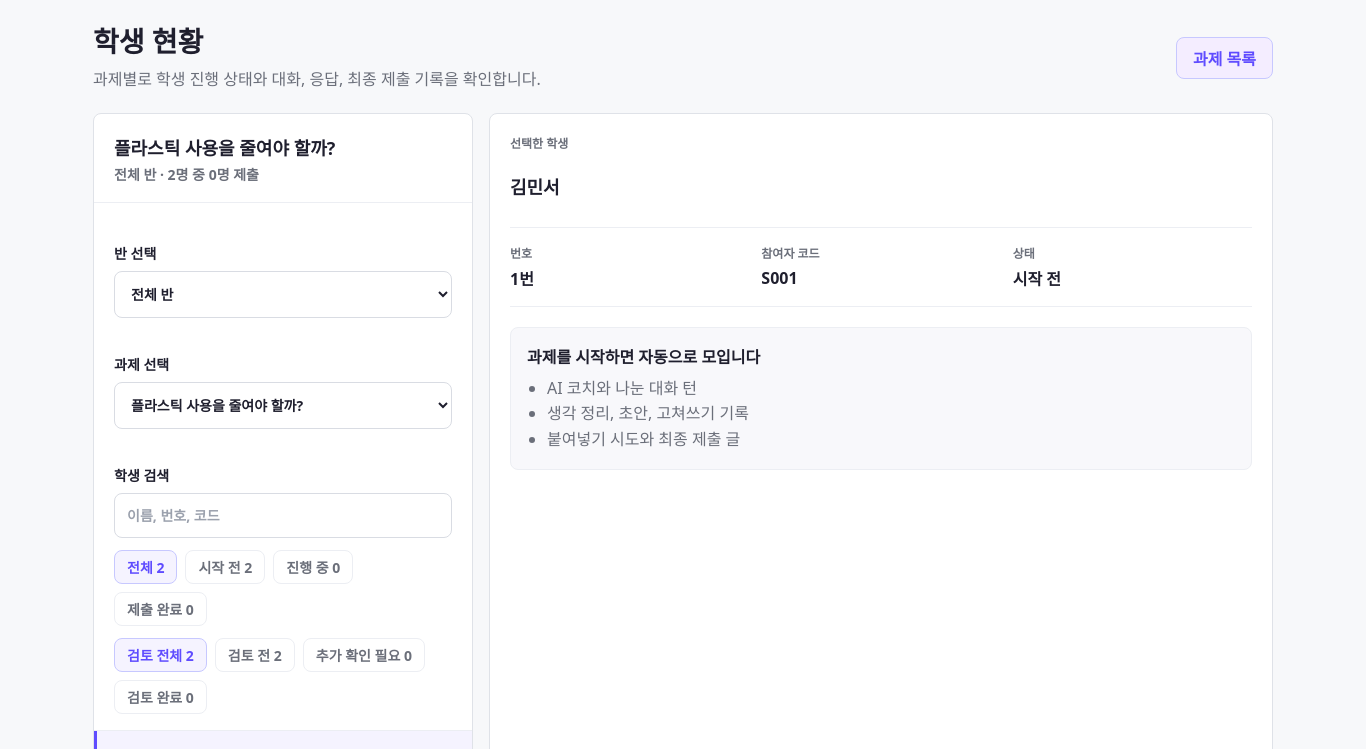
TeacherReview › filters student progress by class group
The width and height of the screenshot is (1366, 749).
Select "2반" in the dropdown labelled "반 선택" at (283, 294), box 114,271 -> 452,318
(page scrolled)
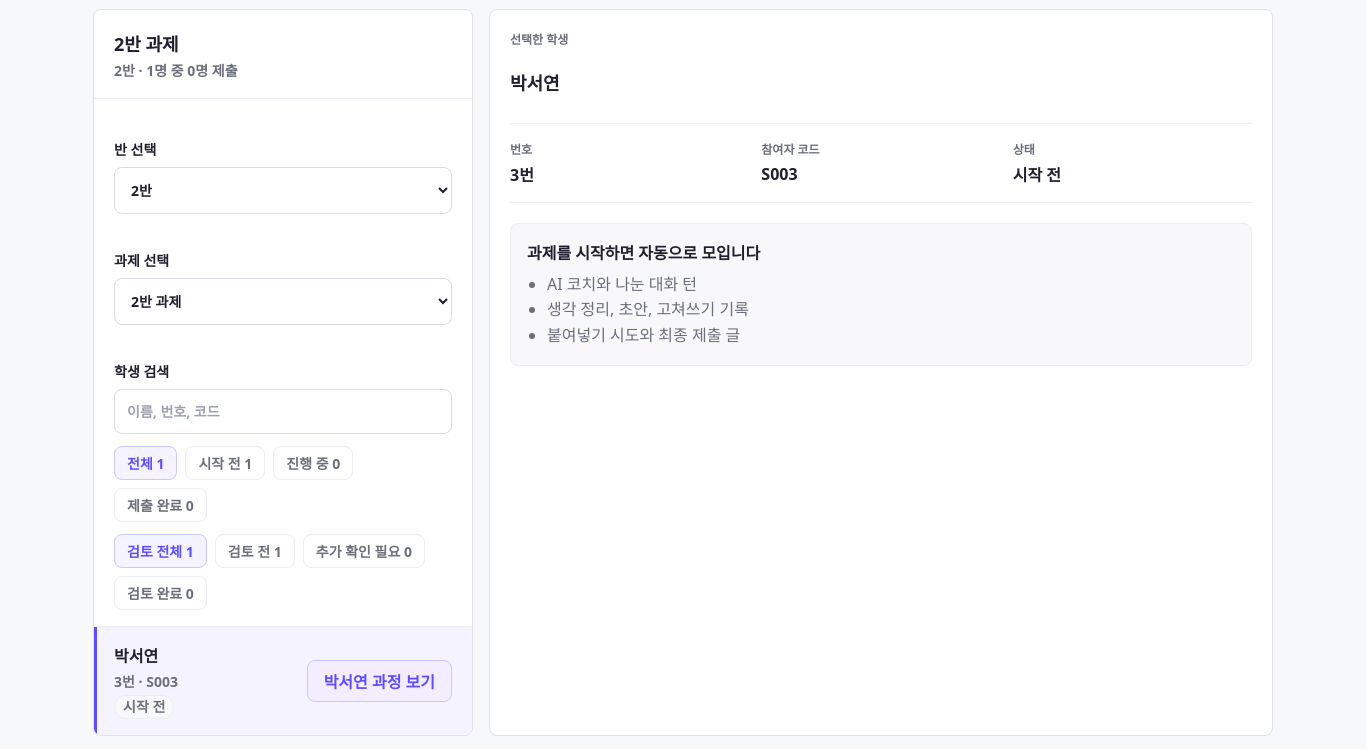
Expected: the heading "2반 과제" is shown, 114,32 -> 179,56
Expected: the text "2반 · 1명 중 0명 제출" is shown, 114,60 -> 238,82
Expected: the element named "박서연 상태" is shown, 94,627 -> 472,735
